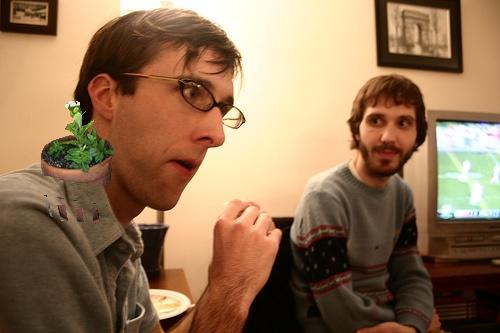tampered: (42, 101, 114, 224)
